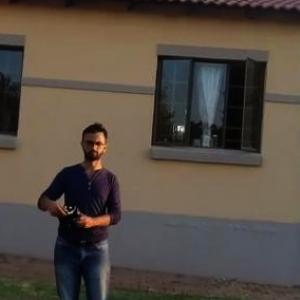follow: (30, 111, 128, 299)
